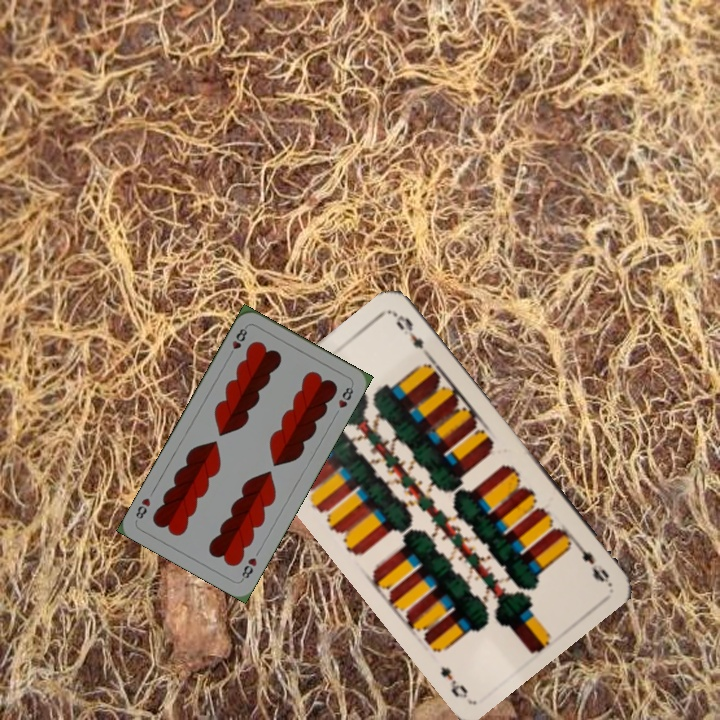E9: (565, 536, 612, 585)
H8: (225, 322, 250, 360), (238, 553, 260, 583)
